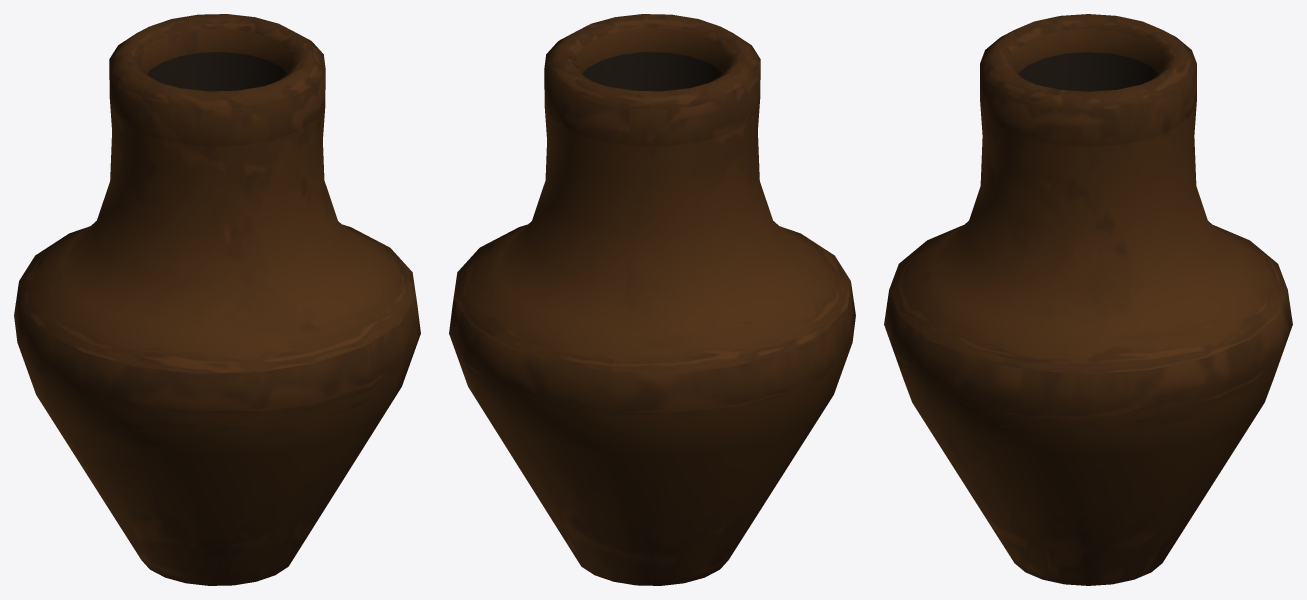
Rendered from vase-4.glb.
3 views of the same model, side by side, from view 1: azimuth 30°, elevation 25°; view 2: azimuth 150°, elevation 25°; view 3: azimuth 270°, elevation 25° (orthographic).
Parts seen in each view (by area): view 1: Vase_4; view 2: Vase_4; view 3: Vase_4.
Boxes of the visible parts, box(x1,y1,x2,y2) form: Vase_4: box(14, 14, 420, 585); Vase_4: box(449, 14, 855, 585); Vase_4: box(884, 14, 1292, 585).
Bounding box in the file's own units: 0.3596 × 0.4855 × 0.3596.
Materials: 1 (1 with a texture image).
